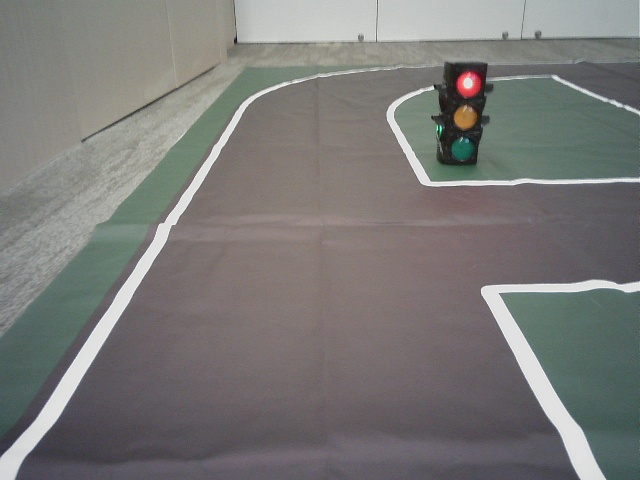red: (446, 65, 480, 160)
